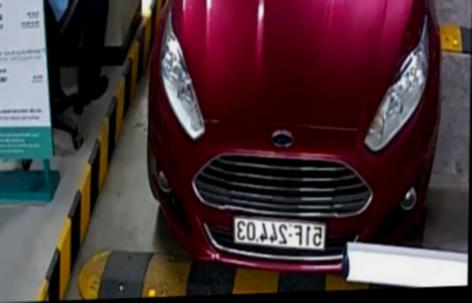License_Plate: (230, 215, 330, 254)
